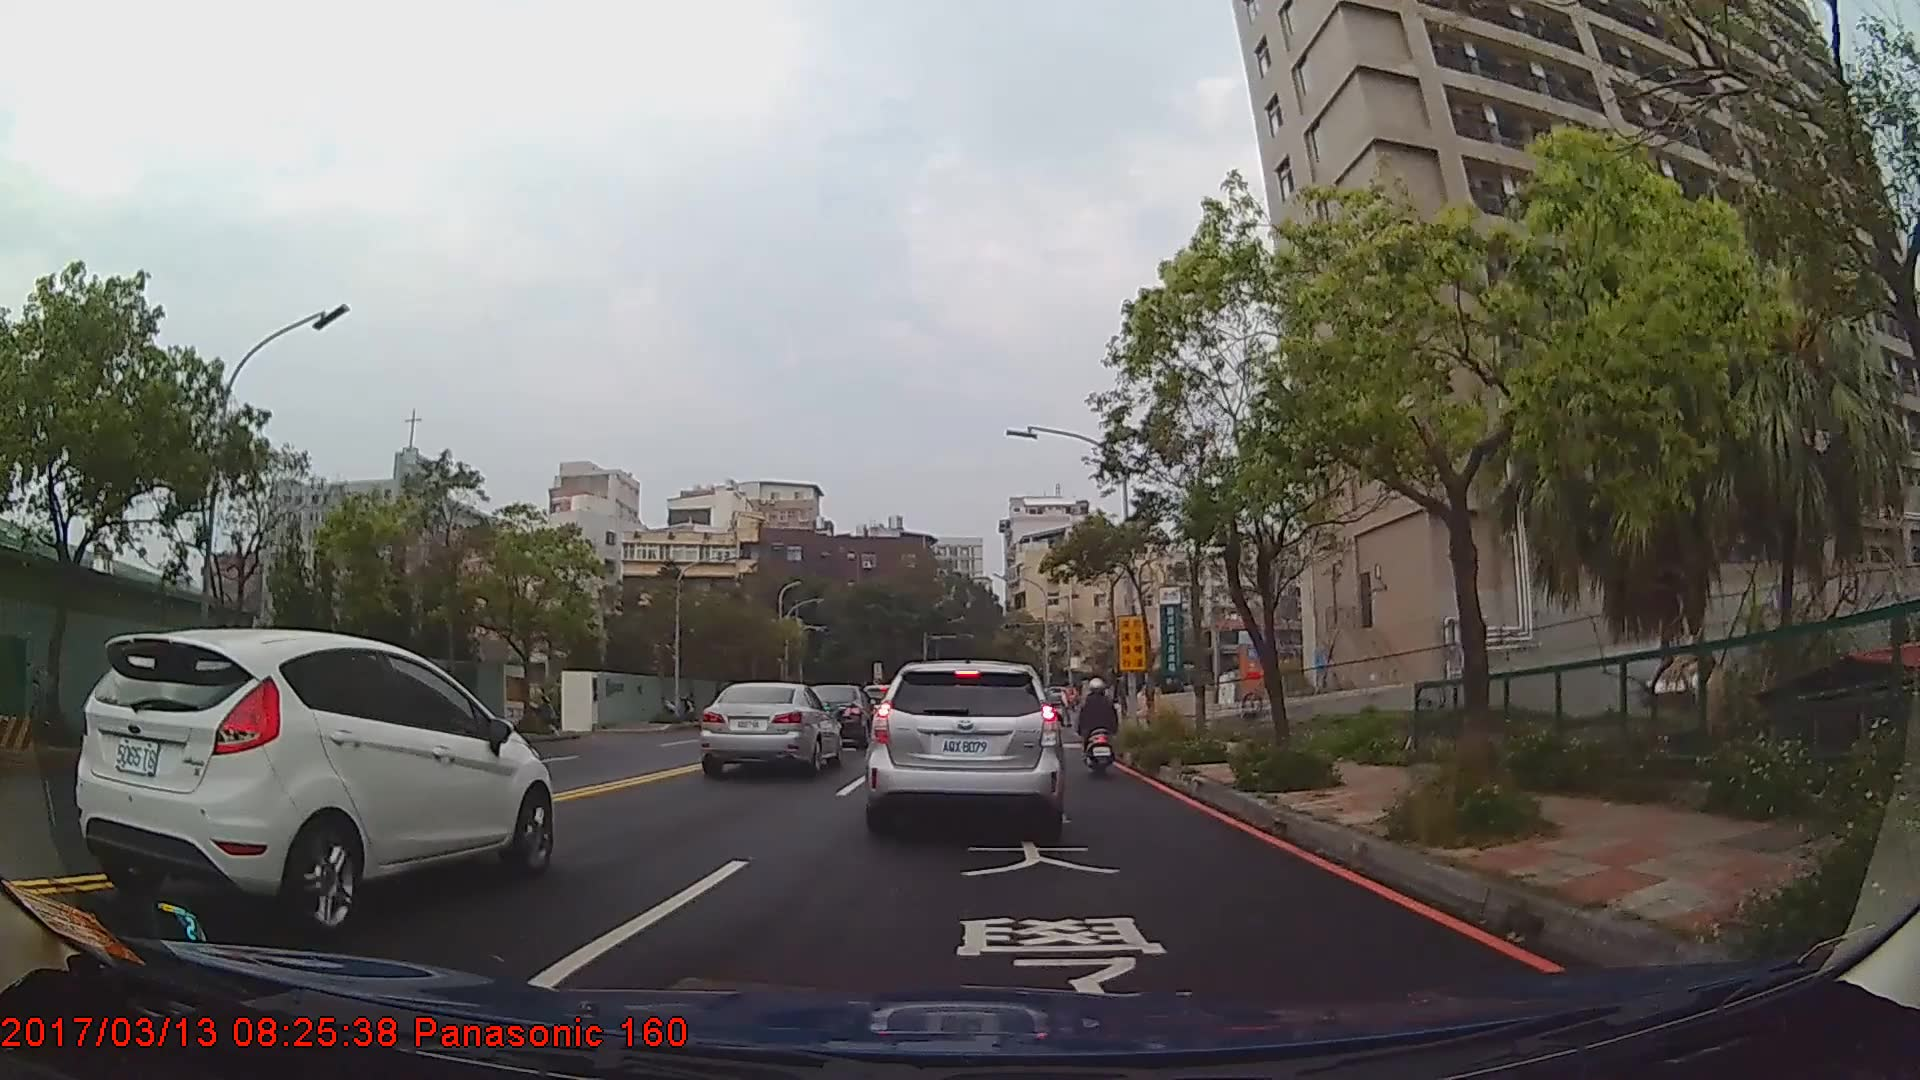rider: (1077, 678, 1121, 782)
vehicle: (73, 626, 553, 935), (862, 659, 1061, 834), (697, 678, 840, 775), (797, 683, 874, 747)
